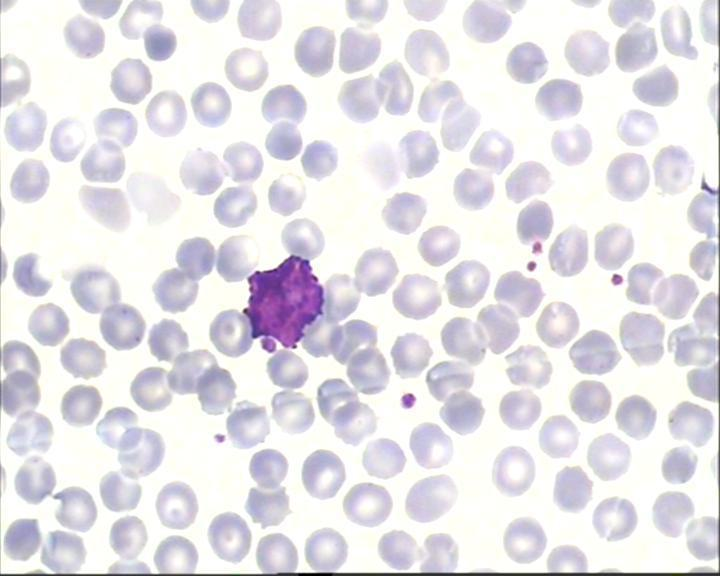baso: (234, 251, 333, 354)
